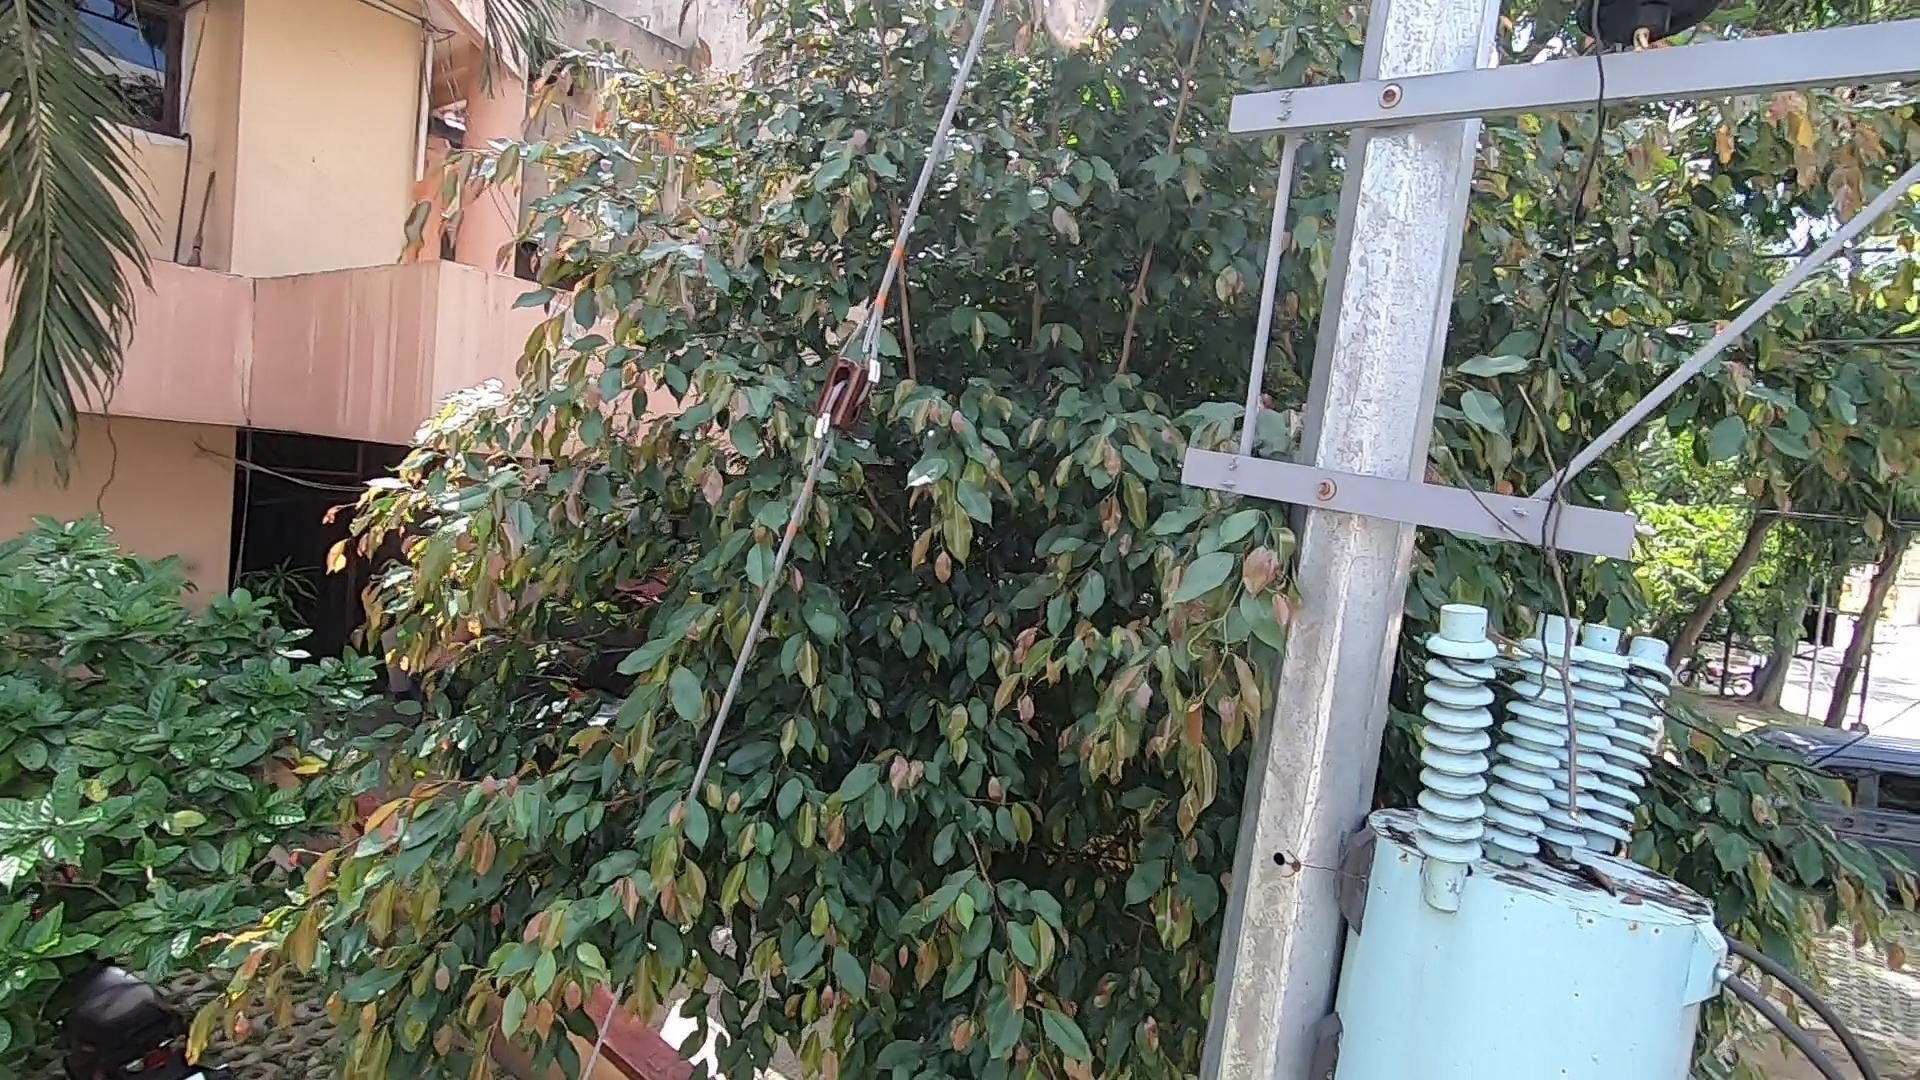leaf: (1528, 829, 1627, 894)
tree branch: (1429, 392, 1619, 822)
